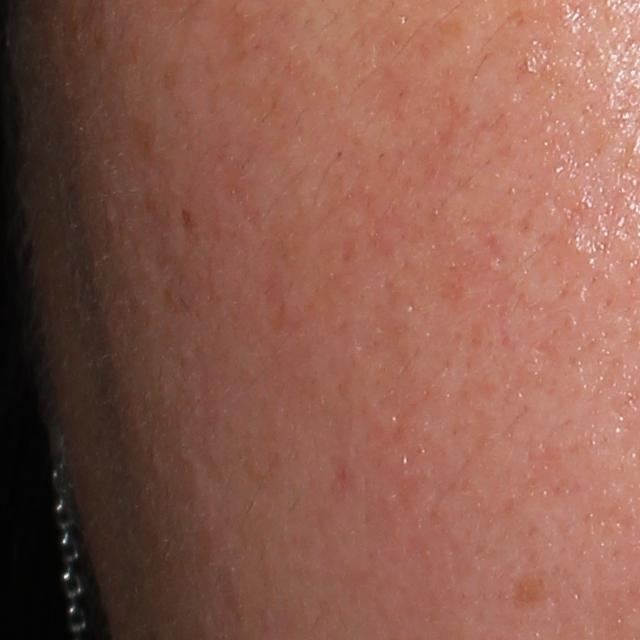melasma: (510, 565, 564, 614)
